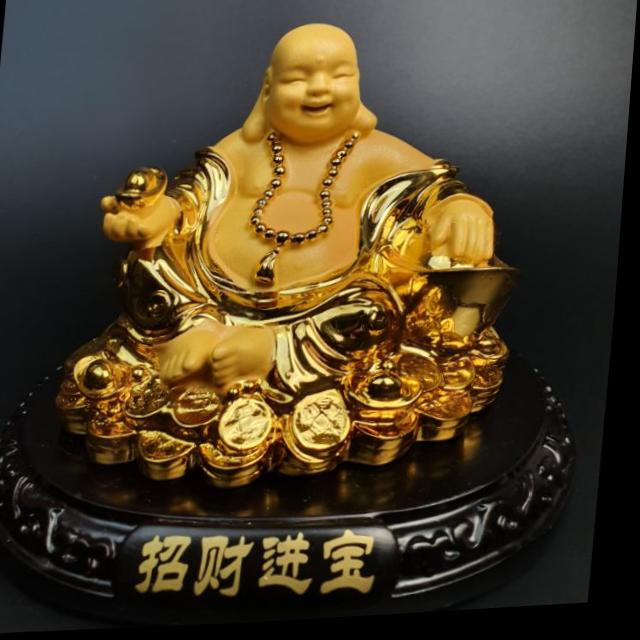Smiling Buddha: (121, 15, 457, 518)
